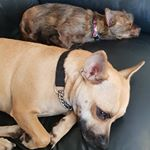puppy: (46, 45, 147, 150)
